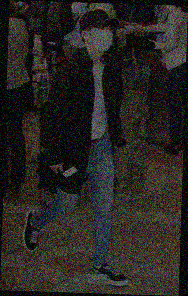with_mask: (91, 26, 114, 54)
